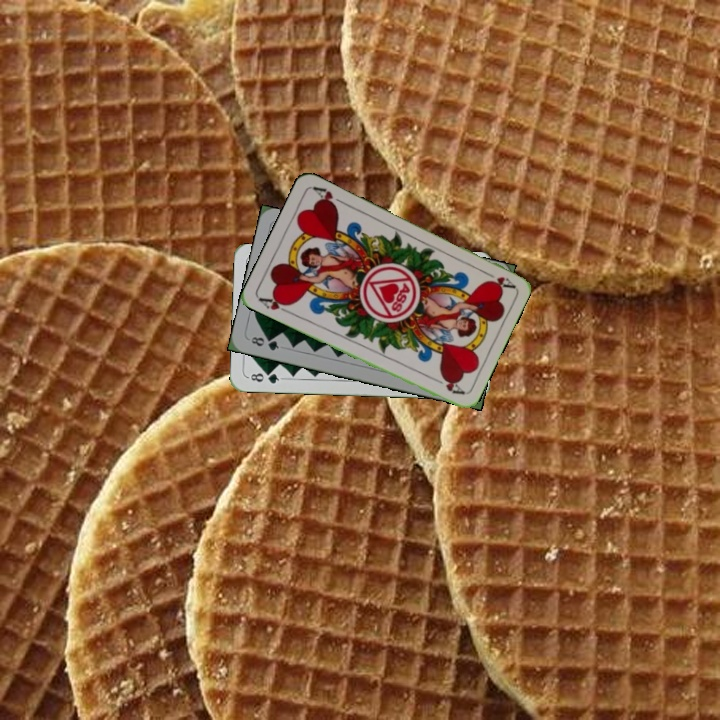G8: (244, 368, 285, 386), (247, 333, 282, 353)
HA: (478, 266, 516, 291), (255, 292, 294, 316)
